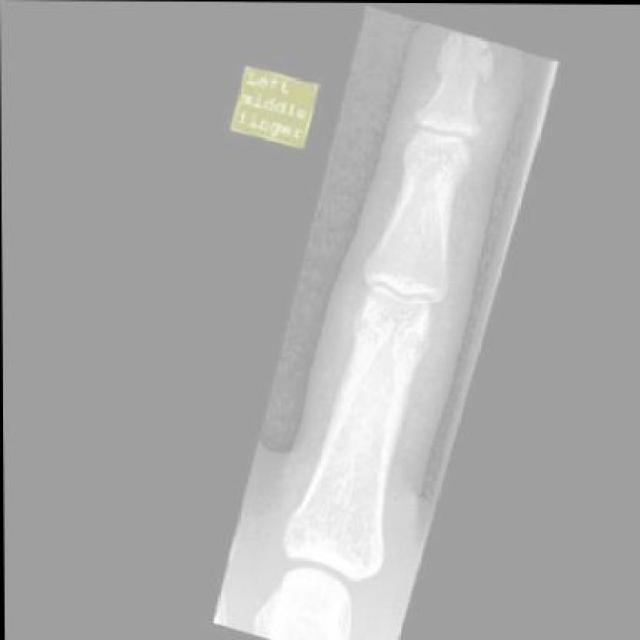Fracture: (428, 28, 492, 89)
